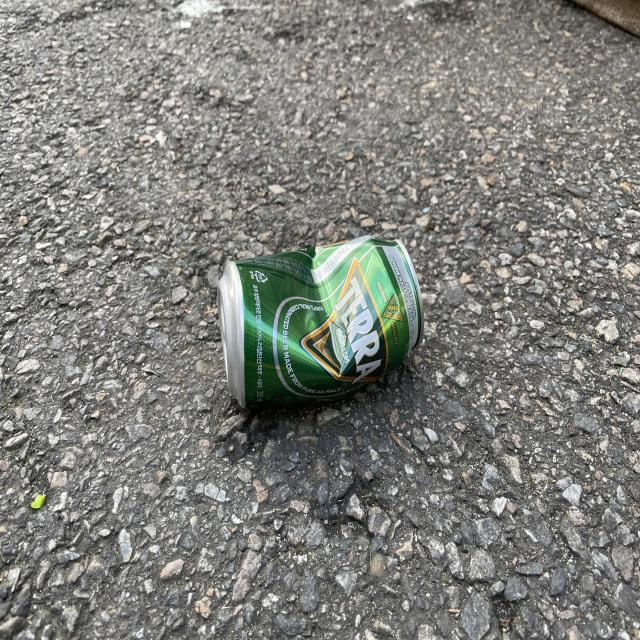can: (217, 235, 424, 408)
